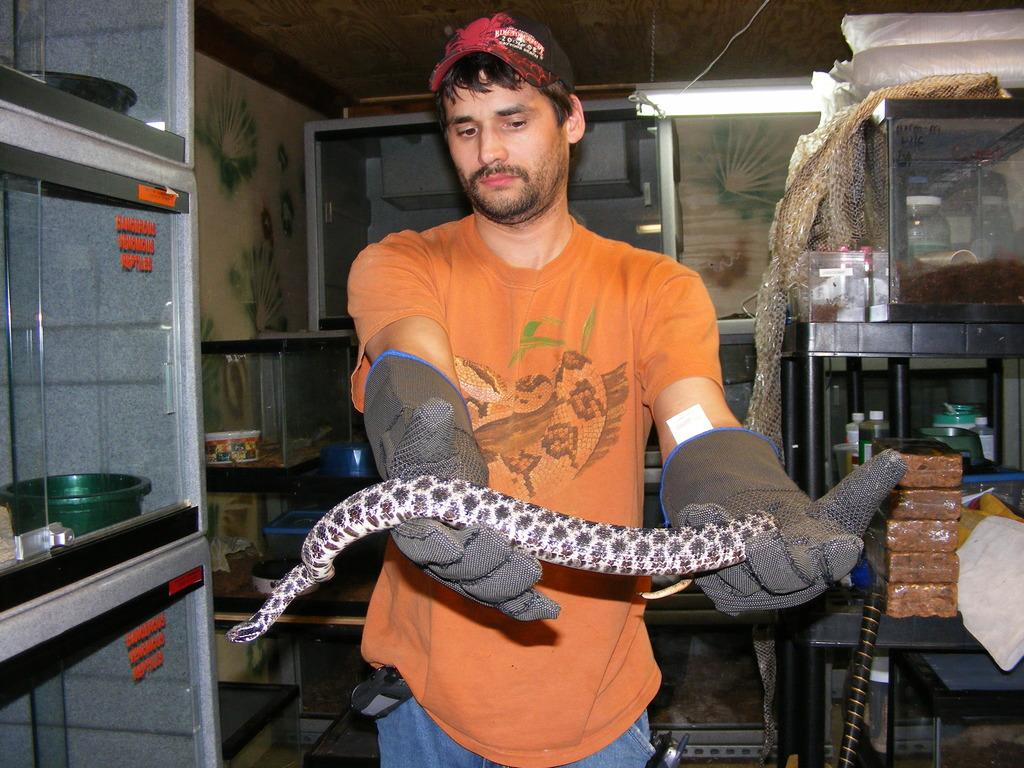Hat: (426, 6, 574, 94)
